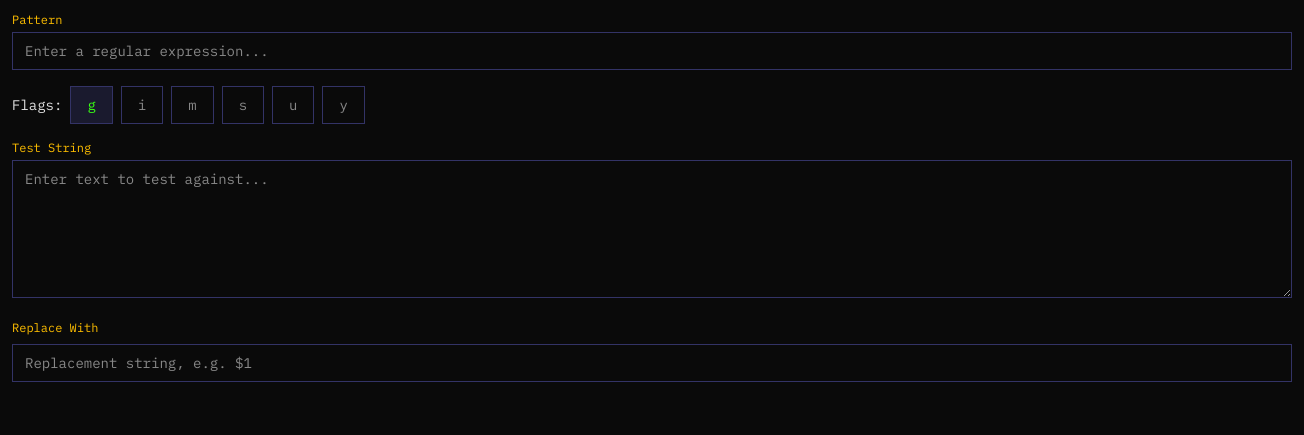
RegexTester › renders an invalid pattern error with role=alert
Type "(" into the field labelled "Pattern" at (652, 51), box [12,32,1292,70]
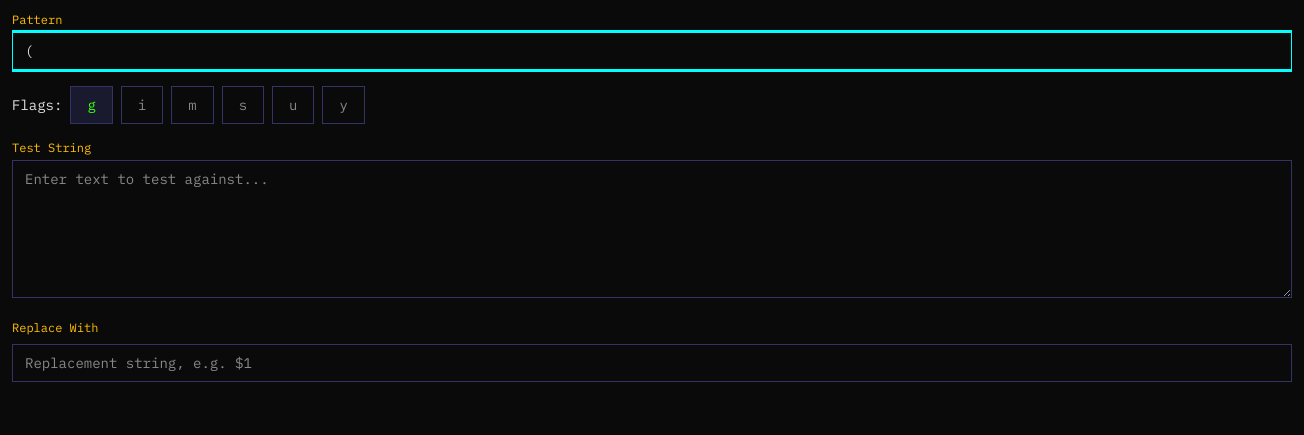
Type "abc" into the text box labelled "Test String" at (652, 229), box [12,160,1292,298]
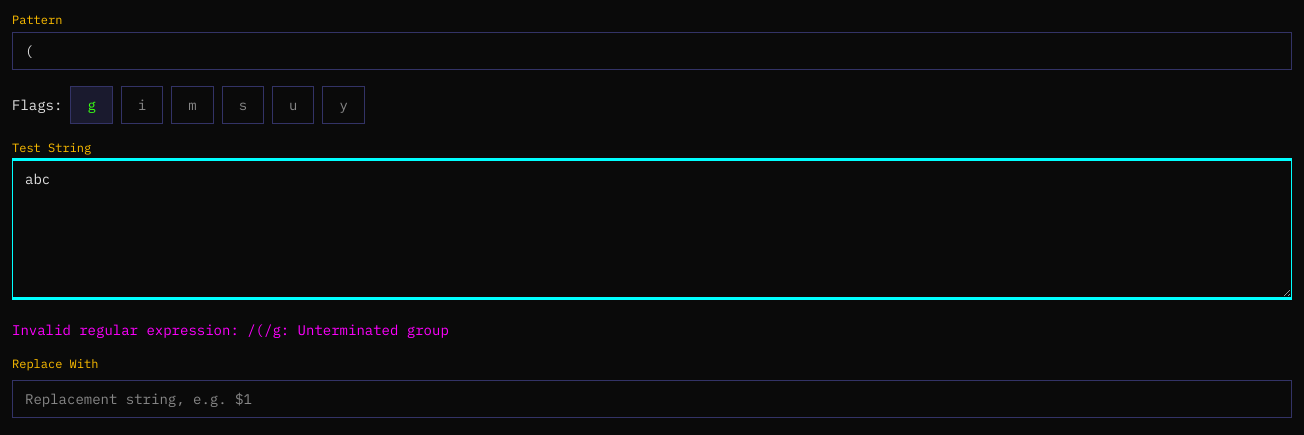
Result: the message is shown at [12,321,449,339]
